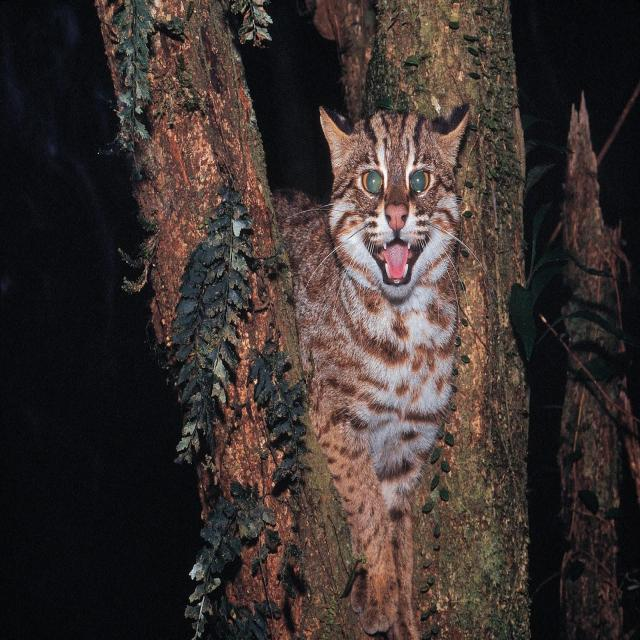leopard: (291, 100, 531, 507)
